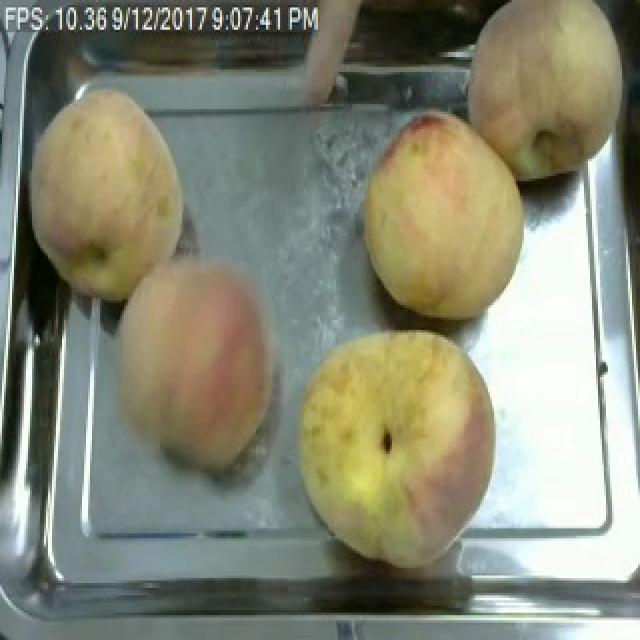Fruit: (284, 320, 508, 576), (96, 243, 288, 481), (352, 100, 540, 328), (16, 77, 194, 312), (458, 0, 638, 193)
